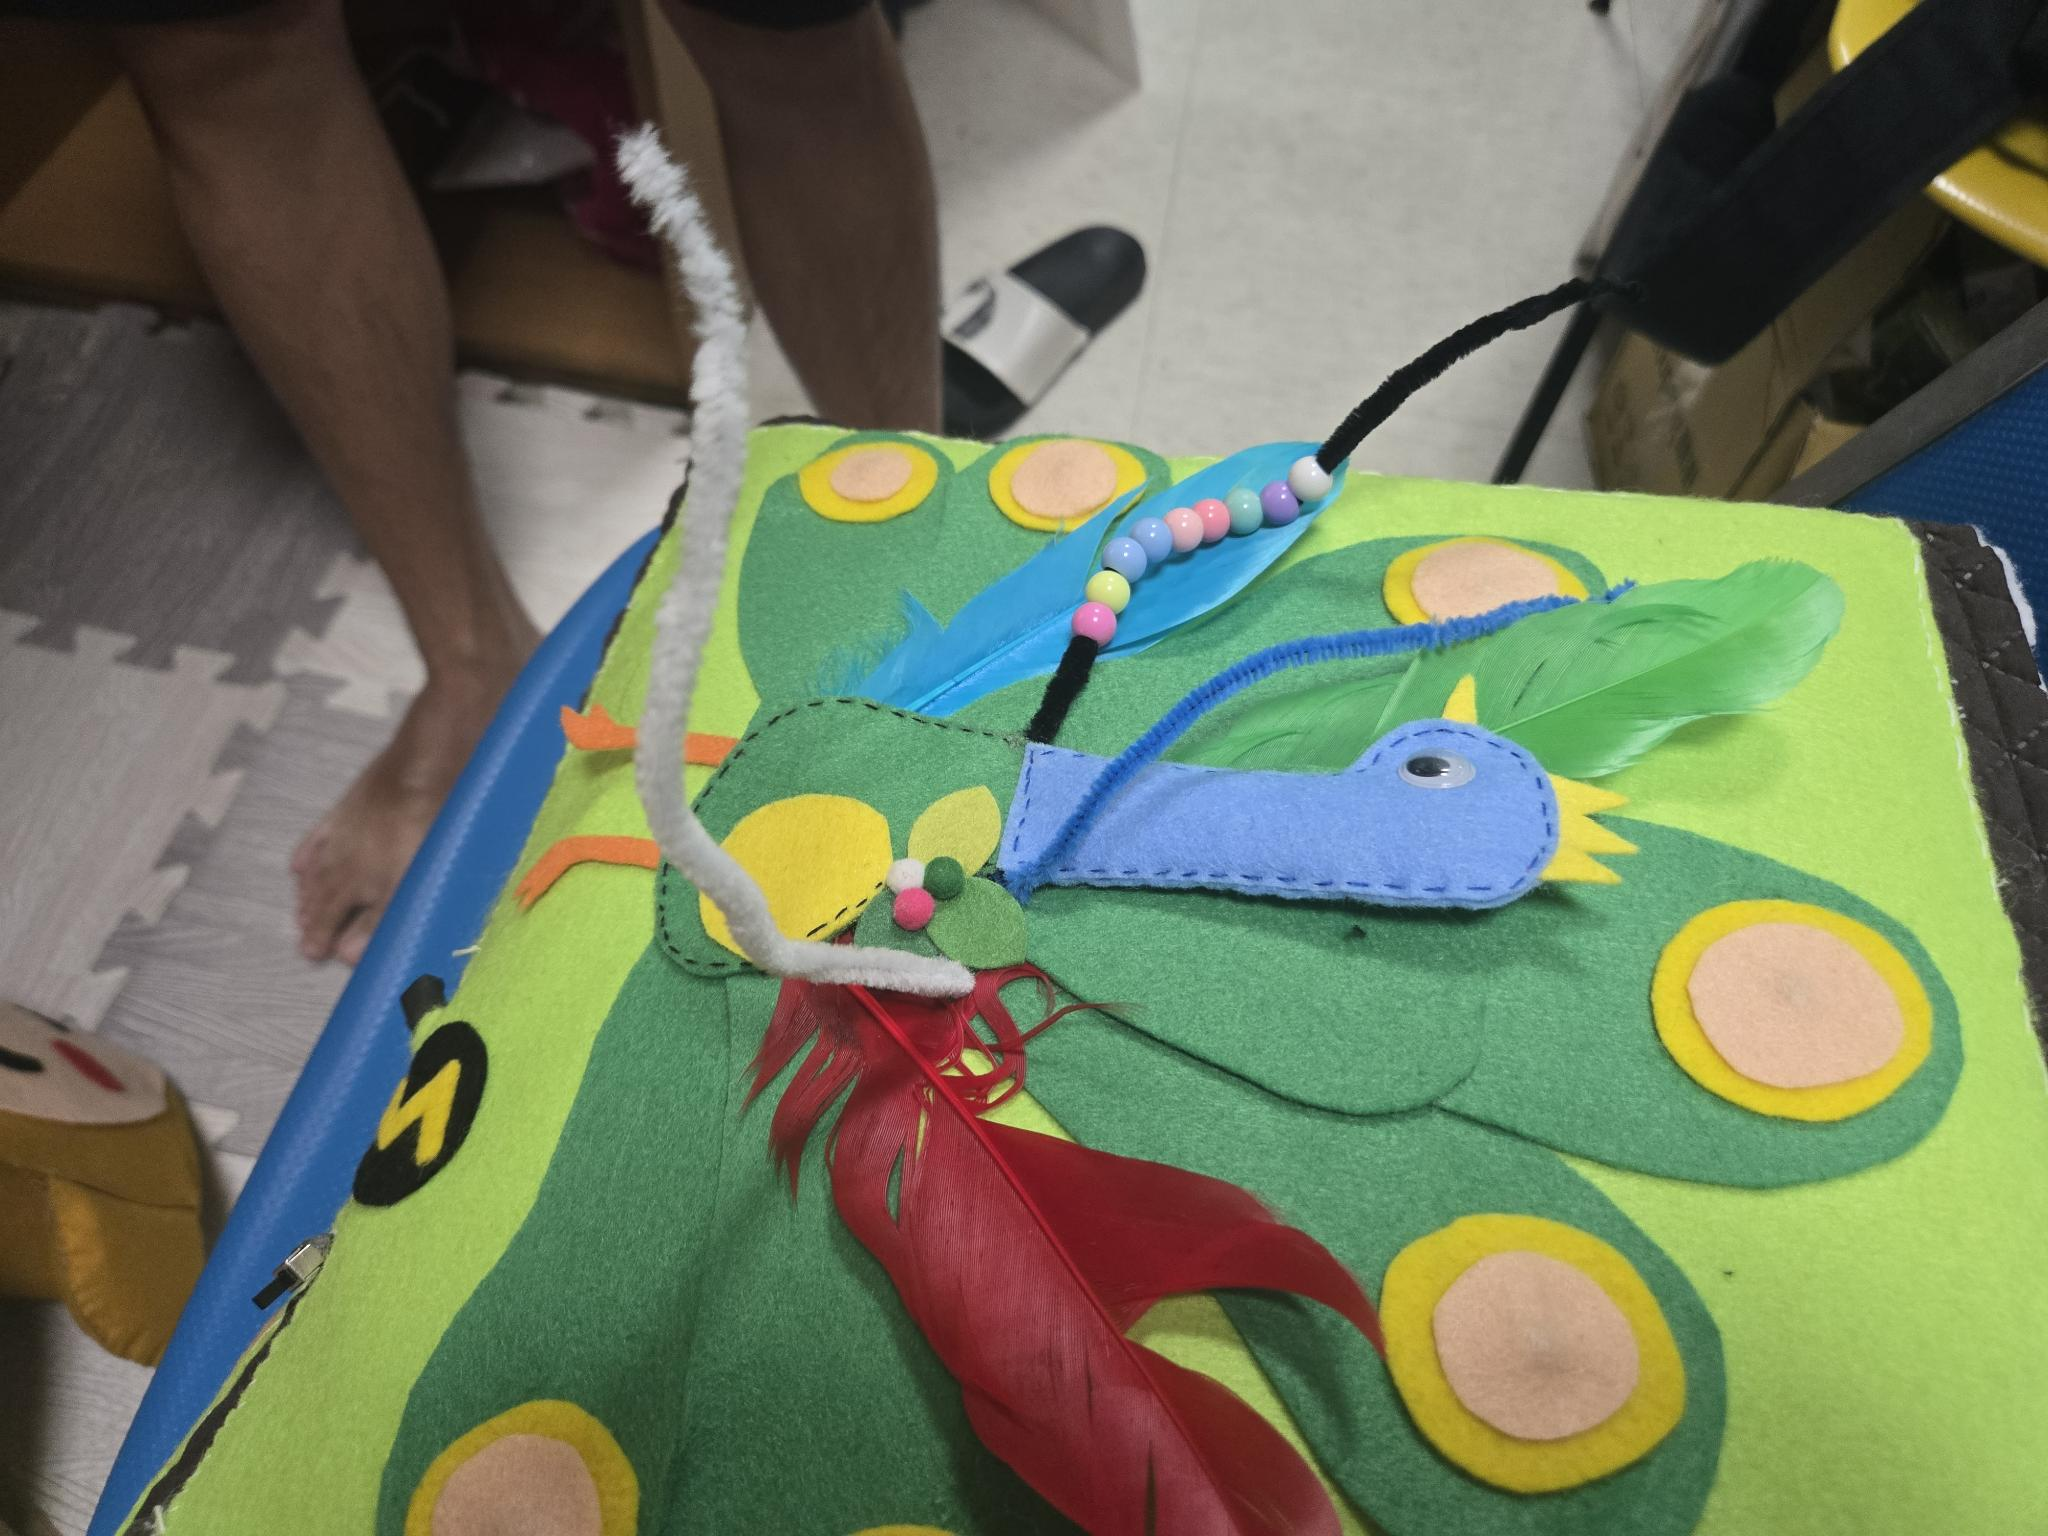bead: (1066, 594, 1122, 647), (1080, 565, 1130, 608), (1100, 534, 1145, 576), (1168, 499, 1200, 553), (1137, 516, 1171, 566), (1292, 453, 1326, 502), (1259, 487, 1300, 524), (1195, 497, 1227, 537), (1229, 487, 1255, 532)
